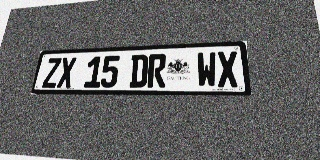1: (84, 56, 104, 88)
5: (100, 55, 120, 88)
D: (129, 54, 148, 88)
R: (147, 54, 166, 88)
W: (197, 52, 217, 87)
X: (217, 51, 239, 87), (57, 57, 77, 88)
Z: (42, 58, 62, 88)
